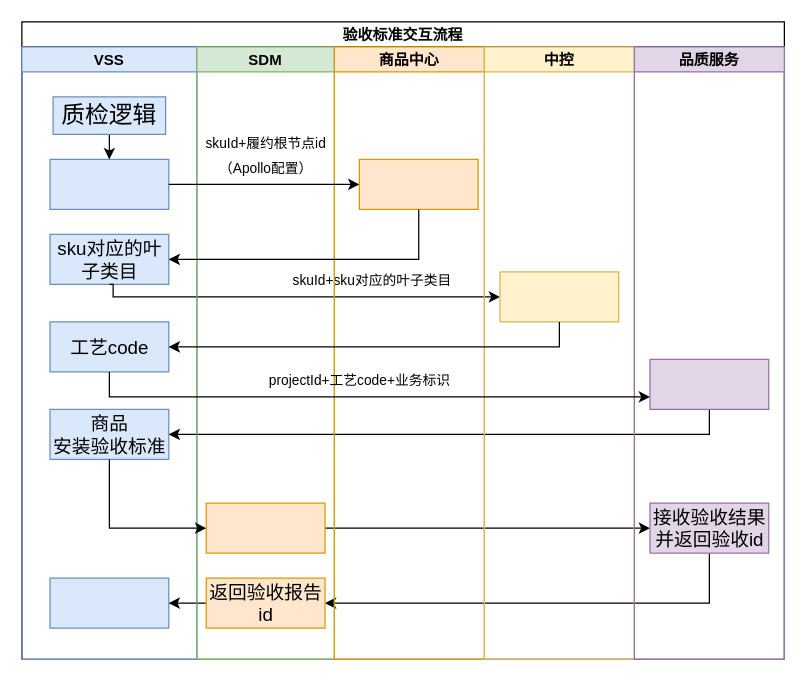
The diagram is 806 pixels wide and 681 high, and some of its shapes have lost their labels. Each missing label, with the centre of its shape:
"履约叶子类目" belongs at (x=418, y=183).
"提交验收结果和模板" belongs at (x=265, y=527).
"获取 验收标准" belongs at (x=709, y=383).
"获取叶子类目" belongs at (x=109, y=183).
"获取工艺 信息" belongs at (x=559, y=296).
"验收报告id" belongs at (x=109, y=602).
